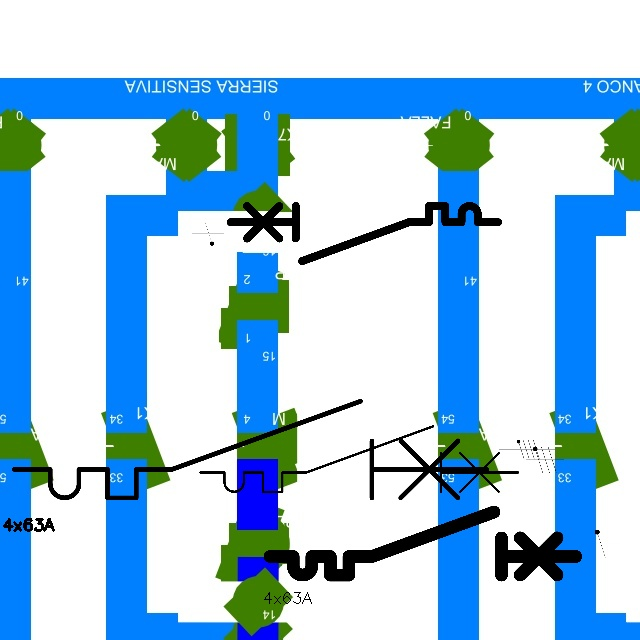interruptor_termomagnetico: (2, 389, 498, 510), (192, 418, 526, 500), (262, 504, 583, 583), (223, 199, 504, 267)
